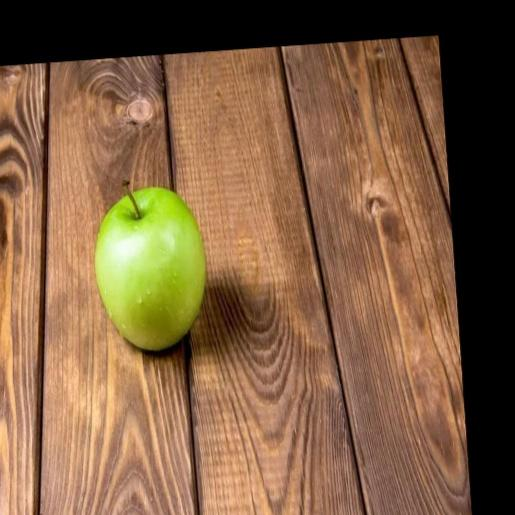green apple: (95, 181, 218, 353)
